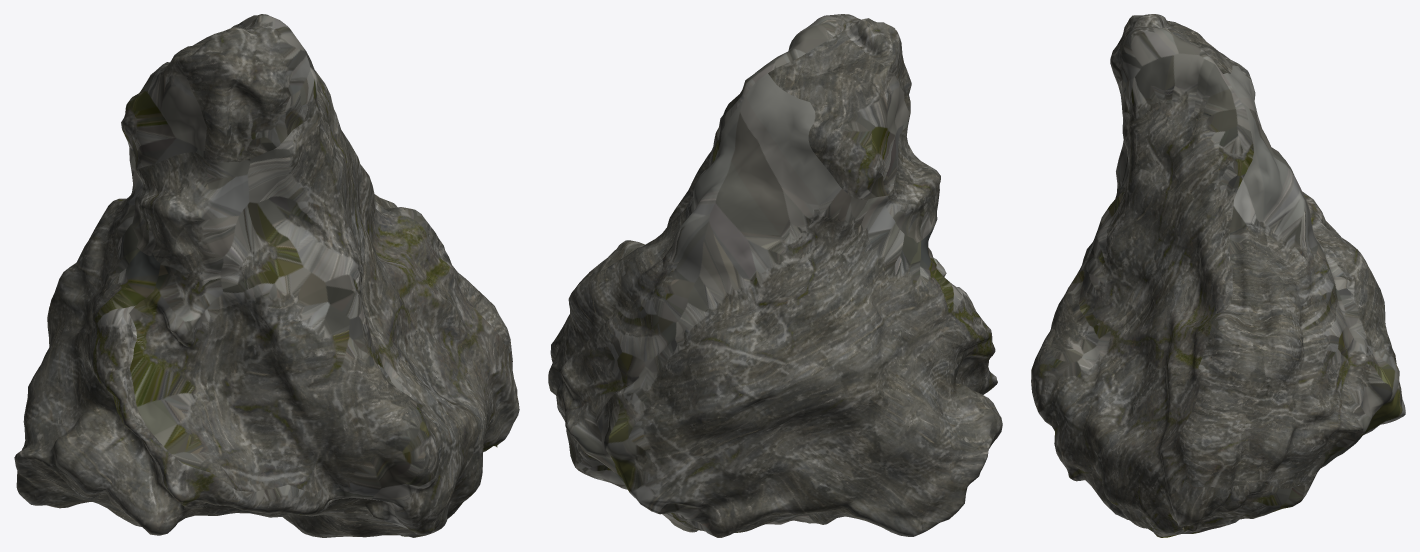
File: SM_Rock_E.fbx
The picture shows the model from 3 angles, left to right: view 1: azimuth 30°, elevation 25°; view 2: azimuth 150°, elevation 25°; view 3: azimuth 270°, elevation 25°; orthographic projection. The views are drawn at different scales.
Visible parts, largest first — view 1: SM_Rock_E_LOD0; view 2: SM_Rock_E_LOD0; view 3: SM_Rock_E_LOD0.
Boxes of the visible parts, x1=… form: SM_Rock_E_LOD0: x1=14, y1=14, x2=519, y2=537; SM_Rock_E_LOD0: x1=548, y1=14, x2=1002, y2=537; SM_Rock_E_LOD0: x1=1031, y1=14, x2=1405, y2=537.
Bounding box in the file's own units: 5621 × 4669 × 6173.
